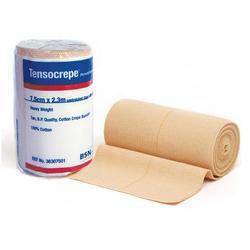bandage: (68, 99, 239, 205)
